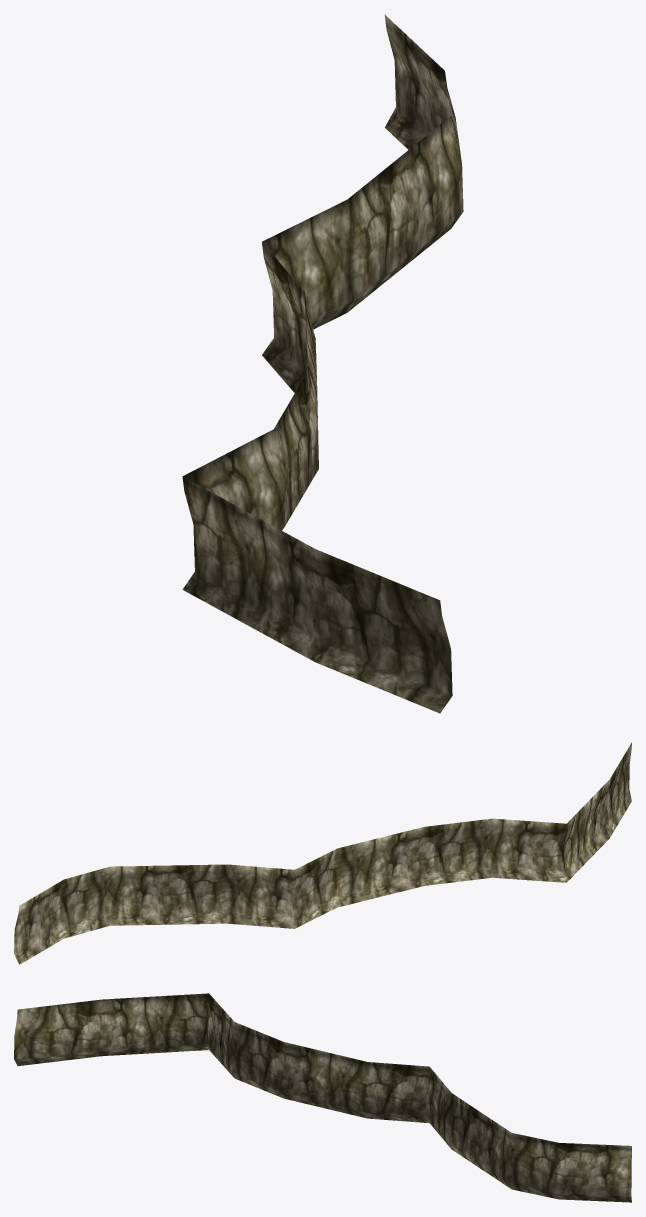
The model's file is CB_NEWPLAYSURFACE_CB_PLAYSURFACE94.fbx.
3 renders of one model, top to bottom at view 1: azimuth 30°, elevation 25°; view 2: azimuth 150°, elevation 25°; view 3: azimuth 270°, elevation 25°, orthographic. The views are drawn at different scales.
Visible parts, largest first — view 1: CB_NEWPLAYSURFACE_CB_PLAYSURFACE94; view 2: CB_NEWPLAYSURFACE_CB_PLAYSURFACE94; view 3: CB_NEWPLAYSURFACE_CB_PLAYSURFACE94.
Part boxes in pixels (bbox=[...]): CB_NEWPLAYSURFACE_CB_PLAYSURFACE94: bbox=[182, 14, 463, 713]; CB_NEWPLAYSURFACE_CB_PLAYSURFACE94: bbox=[14, 742, 631, 964]; CB_NEWPLAYSURFACE_CB_PLAYSURFACE94: bbox=[14, 993, 631, 1202].
Bounding box in the file's own units: 234907 × 40000 × 395404.
1 material, 1 textured.
